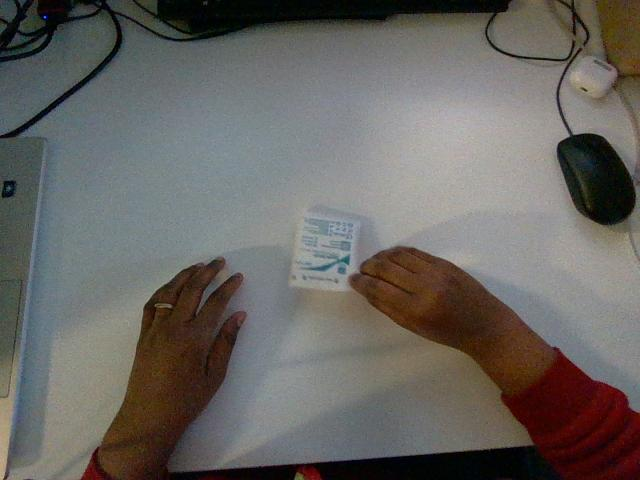gauze: (289, 210, 360, 290)
